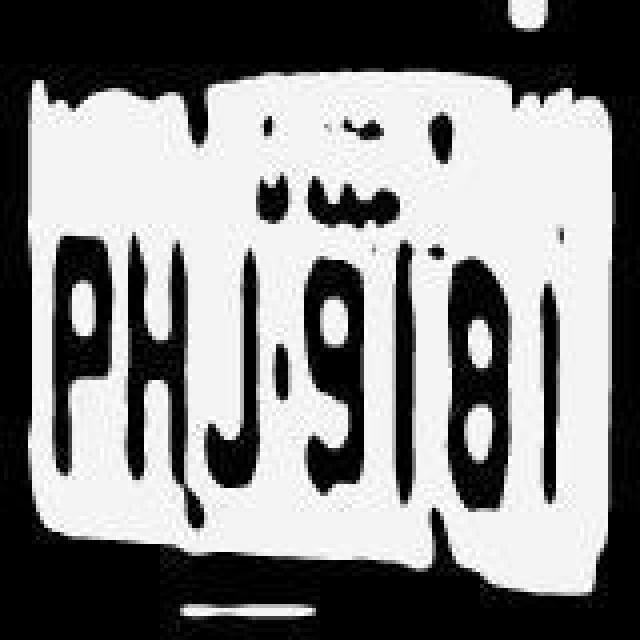1: (528, 268, 584, 516), (384, 242, 432, 502)
8: (442, 252, 518, 516)
9: (292, 248, 372, 512)
H: (120, 224, 192, 480)
J: (194, 240, 270, 488)
P: (38, 232, 114, 488)
